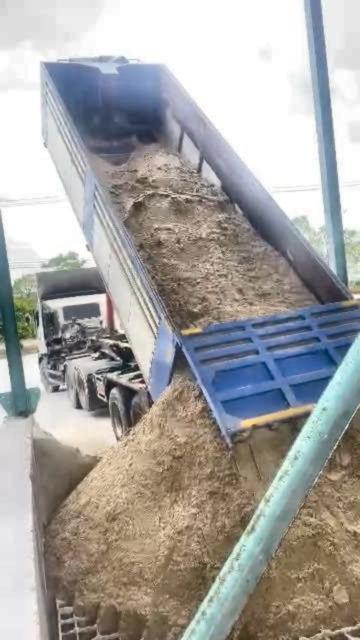sand: (47, 372, 299, 639), (94, 146, 316, 327), (234, 425, 360, 639), (31, 426, 97, 527)
